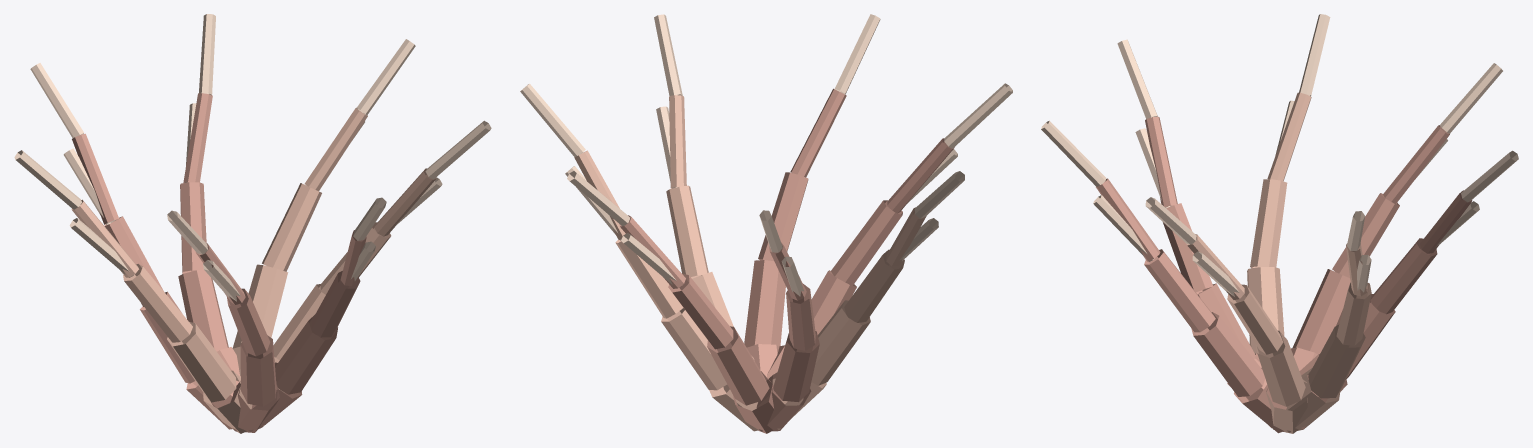
File: coral.glb
3 renders of one model, left to right at view 1: azimuth 30°, elevation 25°; view 2: azimuth 150°, elevation 25°; view 3: azimuth 270°, elevation 25°, orthographic.
Visible parts, largest first — view 1: coral; view 2: coral; view 3: coral.
Boxes of the visible parts, bbox=[...] form: coral: bbox=[14, 14, 491, 433]; coral: bbox=[520, 14, 1012, 433]; coral: bbox=[1041, 14, 1518, 433].
Size of the model in its own units: 1.44 by 1.03 by 1.43.
